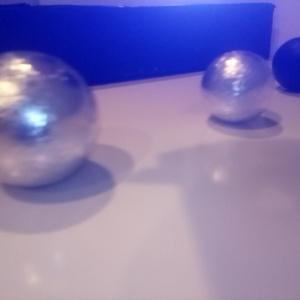alive_ball: (1, 50, 98, 188), (200, 50, 274, 123)
dead_ball: (271, 35, 300, 91)
